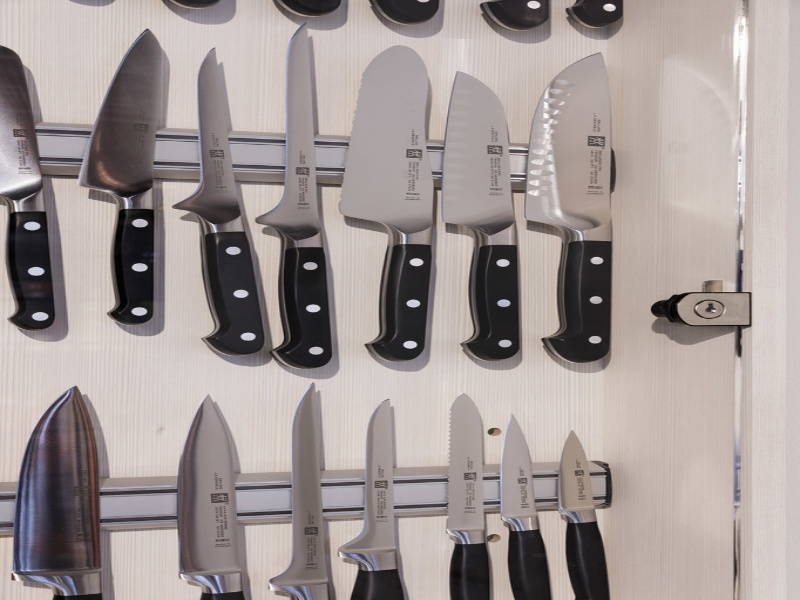knife: (339, 43, 439, 388), (77, 24, 172, 332), (526, 47, 613, 377), (256, 16, 331, 385), (174, 44, 253, 368), (441, 64, 512, 373), (11, 384, 105, 600), (1, 28, 60, 333), (173, 388, 248, 600), (267, 379, 336, 600), (338, 393, 404, 600), (444, 392, 495, 600), (559, 423, 615, 600), (499, 408, 550, 600)
